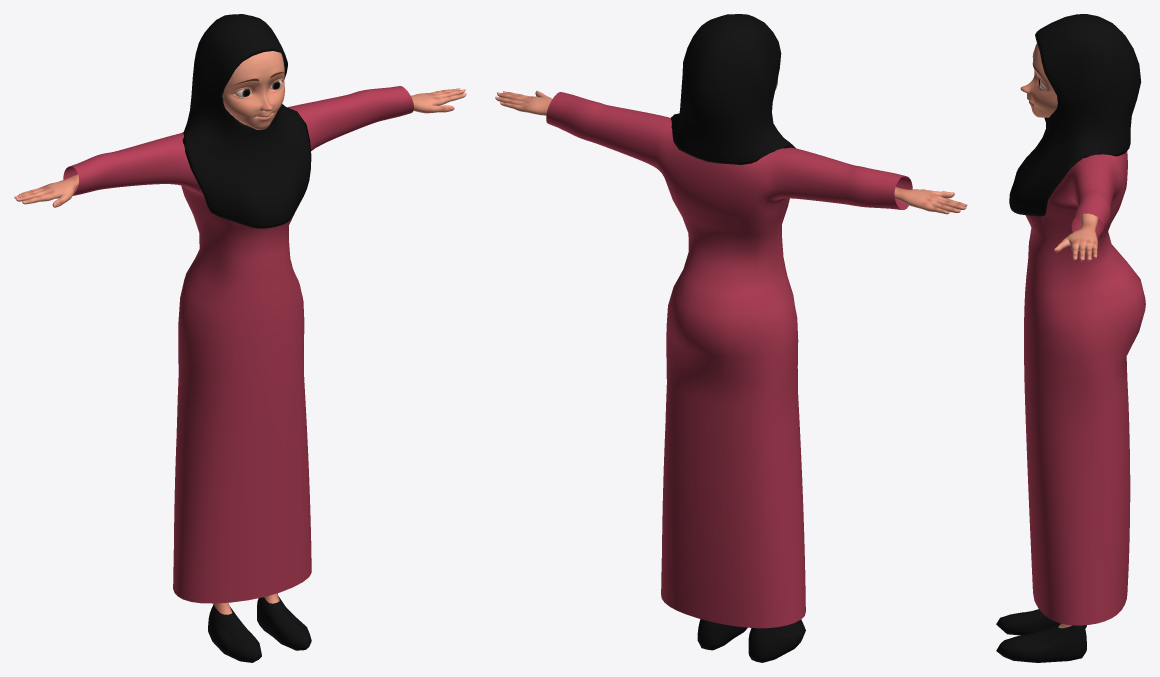
File: character6.glb
The picture shows the model from 3 angles, left to right: view 1: azimuth 30°, elevation 25°; view 2: azimuth 150°, elevation 25°; view 3: azimuth 270°, elevation 25°; orthographic projection. The views are drawn at different scales.
Visible parts, largest first — view 1: Box001, Box002, female_5_CC_Base_Body001, Box003; view 2: Box001, Box002, Box003, female_5_CC_Base_Body001; view 3: Box001, Box002, Box003, female_5_CC_Base_Body001.
Part boxes in pixels (x1=…): Box001: x1=63, y1=86, x2=413, y2=603; Box002: x1=182, y1=14, x2=311, y2=228; female_5_CC_Base_Body001: x1=14, y1=51, x2=466, y2=614; Box003: x1=208, y1=596, x2=311, y2=662; Box001: x1=546, y1=92, x2=912, y2=628; Box002: x1=671, y1=14, x2=795, y2=164; Box003: x1=697, y1=619, x2=805, y2=662; female_5_CC_Base_Body001: x1=495, y1=79, x2=967, y2=214; Box001: x1=1024, y1=151, x2=1145, y2=625; Box002: x1=1009, y1=14, x2=1141, y2=216; Box003: x1=996, y1=609, x2=1086, y2=662; female_5_CC_Base_Body001: x1=1020, y1=43, x2=1098, y2=628.
Bounding box in the file's own units: 1.18 × 1.54 × 0.3324.
Materials: 14 (12 with a texture image).
